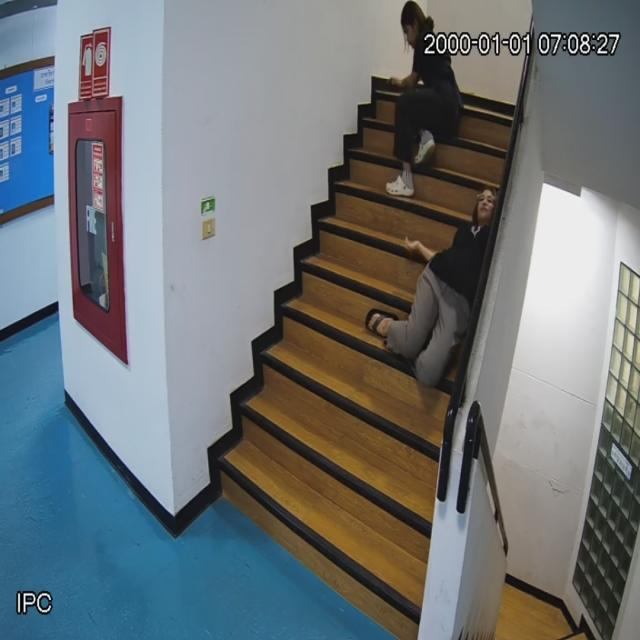fall: (373, 190, 494, 384), (388, 5, 459, 194)
